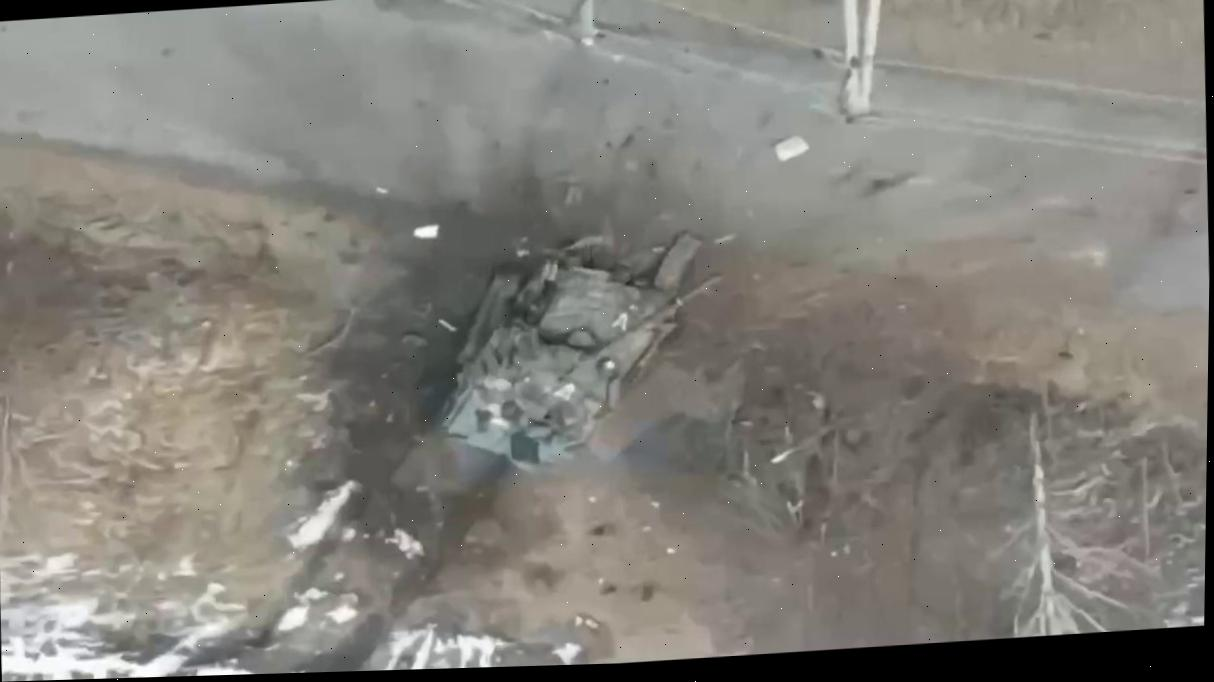tank: (427, 219, 731, 482)
